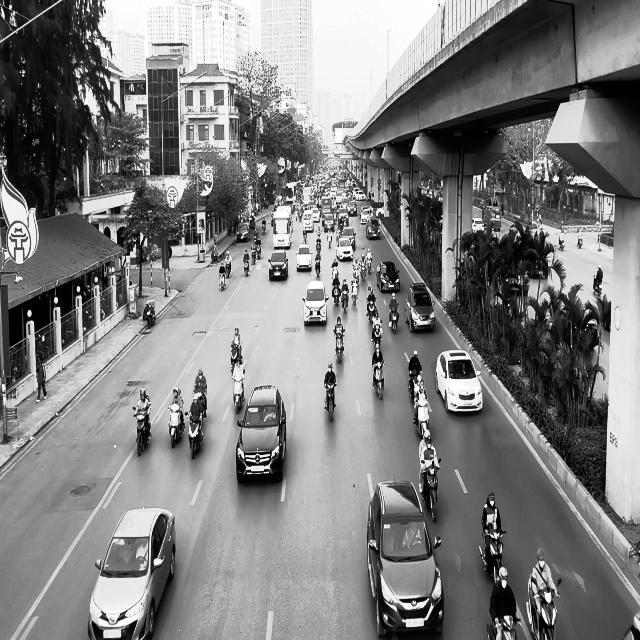car: (366, 477, 444, 638), (87, 506, 176, 640), (236, 384, 286, 484), (435, 349, 483, 414), (405, 282, 435, 333), (302, 280, 328, 326), (376, 260, 400, 292), (268, 249, 288, 281), (296, 243, 312, 271)
motorbike: (526, 574, 562, 640), (479, 522, 506, 584), (420, 458, 440, 522), (186, 410, 205, 459), (133, 406, 151, 456), (486, 614, 520, 640), (168, 404, 185, 449), (231, 366, 245, 413), (324, 383, 336, 421), (372, 362, 384, 399), (230, 341, 242, 373), (143, 299, 156, 327), (334, 328, 344, 363), (593, 275, 602, 295), (218, 270, 226, 290), (243, 257, 249, 276)
